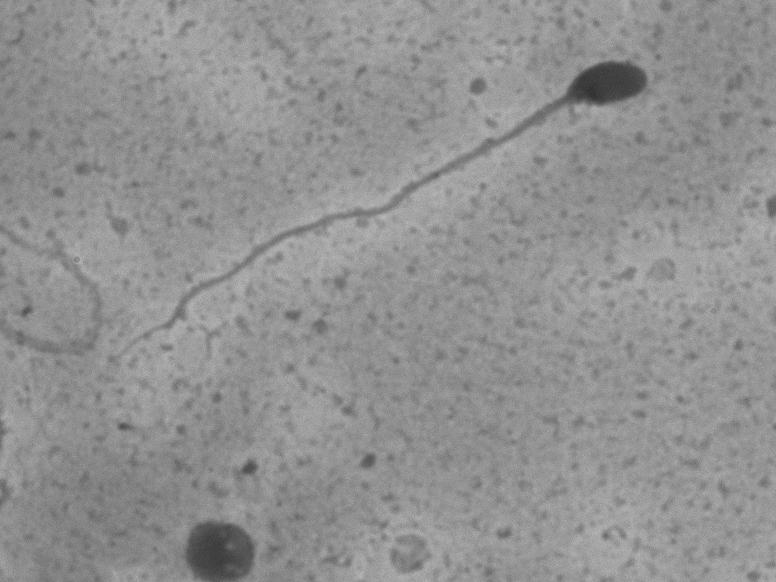Abnormal: (87, 39, 662, 374)
